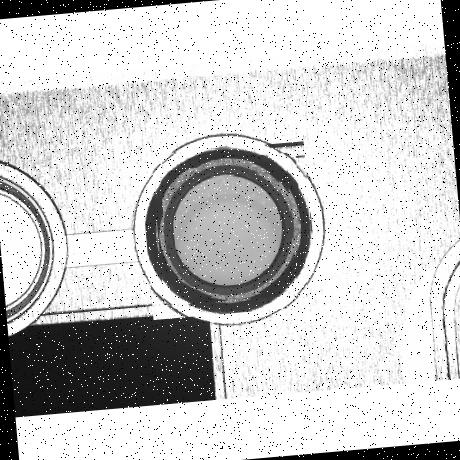Hole: (140, 140, 318, 320)
Hole2: (152, 152, 308, 306)
Hole3: (160, 160, 298, 300)
Hole4: (170, 172, 288, 290)
